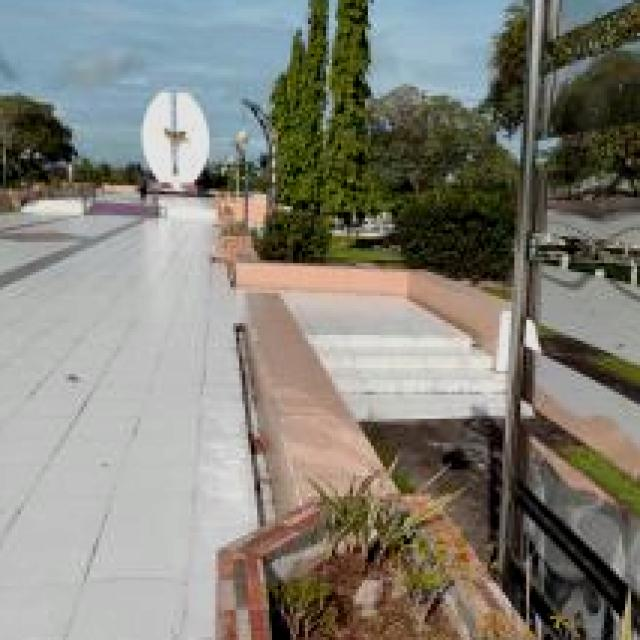upstair: (303, 315, 512, 426)
